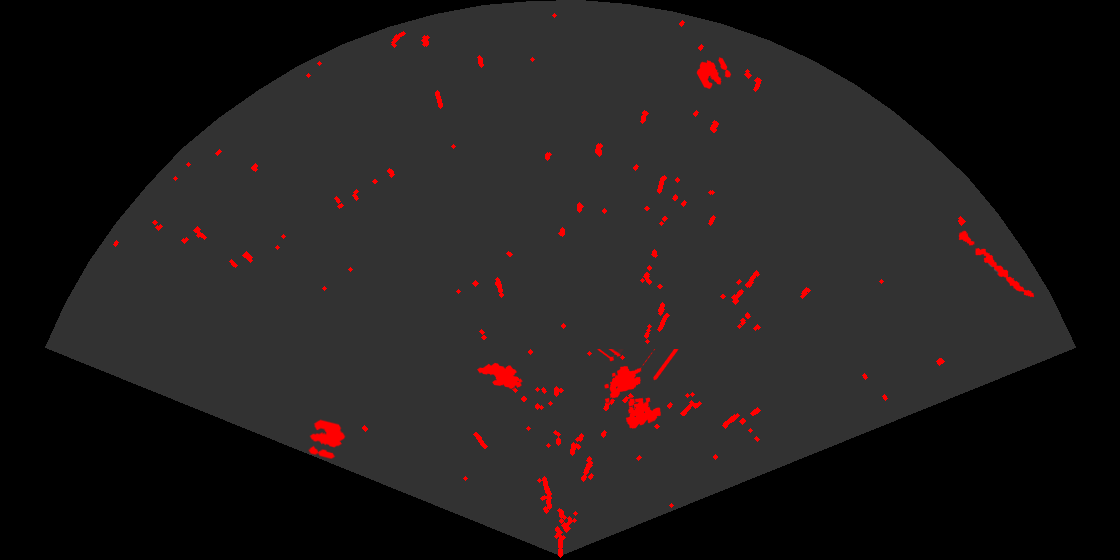AUV: (476, 361, 524, 390)
ball: (307, 418, 347, 461), (695, 56, 733, 91)
cage: (596, 349, 680, 430)
chain: (957, 229, 1036, 299)
